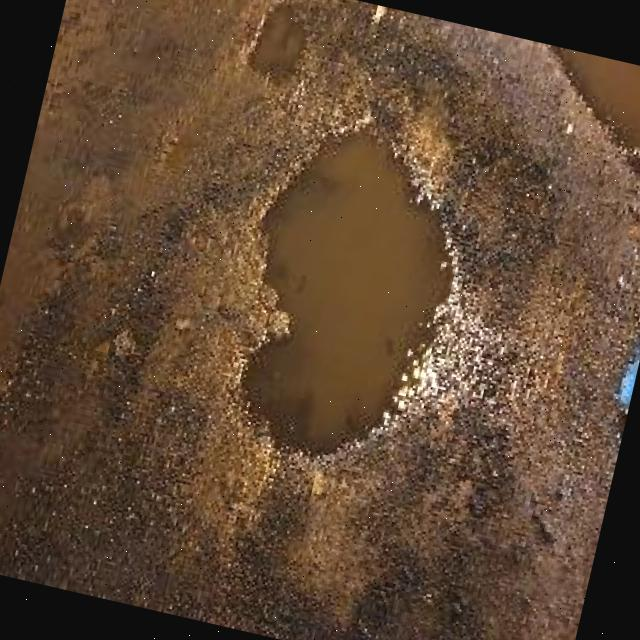waterlogging: (191, 92, 500, 495)
